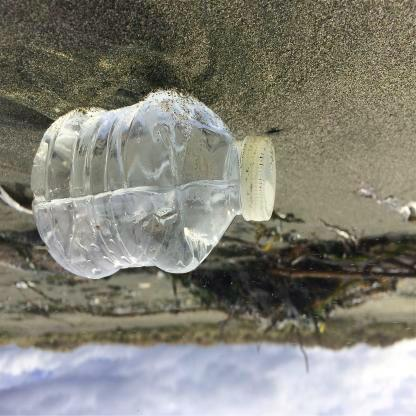Plastic: (21, 85, 279, 287)
